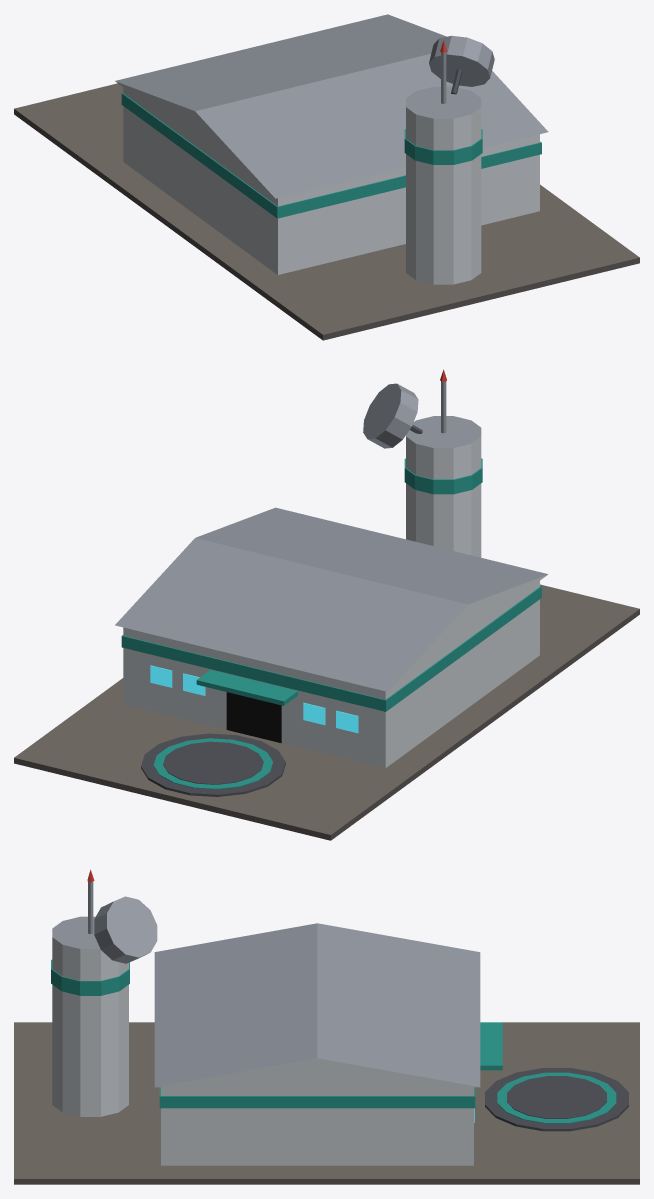
3 views of the same model, one above another, from view 1: azimuth 30°, elevation 25°; view 2: azimuth 150°, elevation 25°; view 3: azimuth 270°, elevation 25° (orthographic).
Parts seen in each view (by area): view 1: hq; view 2: hq; view 3: hq.
Boxes of the visible parts, box(x1,y1,x2,y2) form: hq: box(14, 14, 639, 340); hq: box(14, 369, 639, 840); hq: box(14, 869, 639, 1184).
Bounding box in the file's own units: 5.8 × 4.1 × 9.8.
